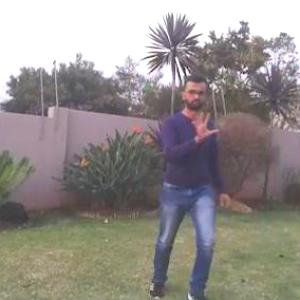follow_hand: (189, 108, 221, 144)
